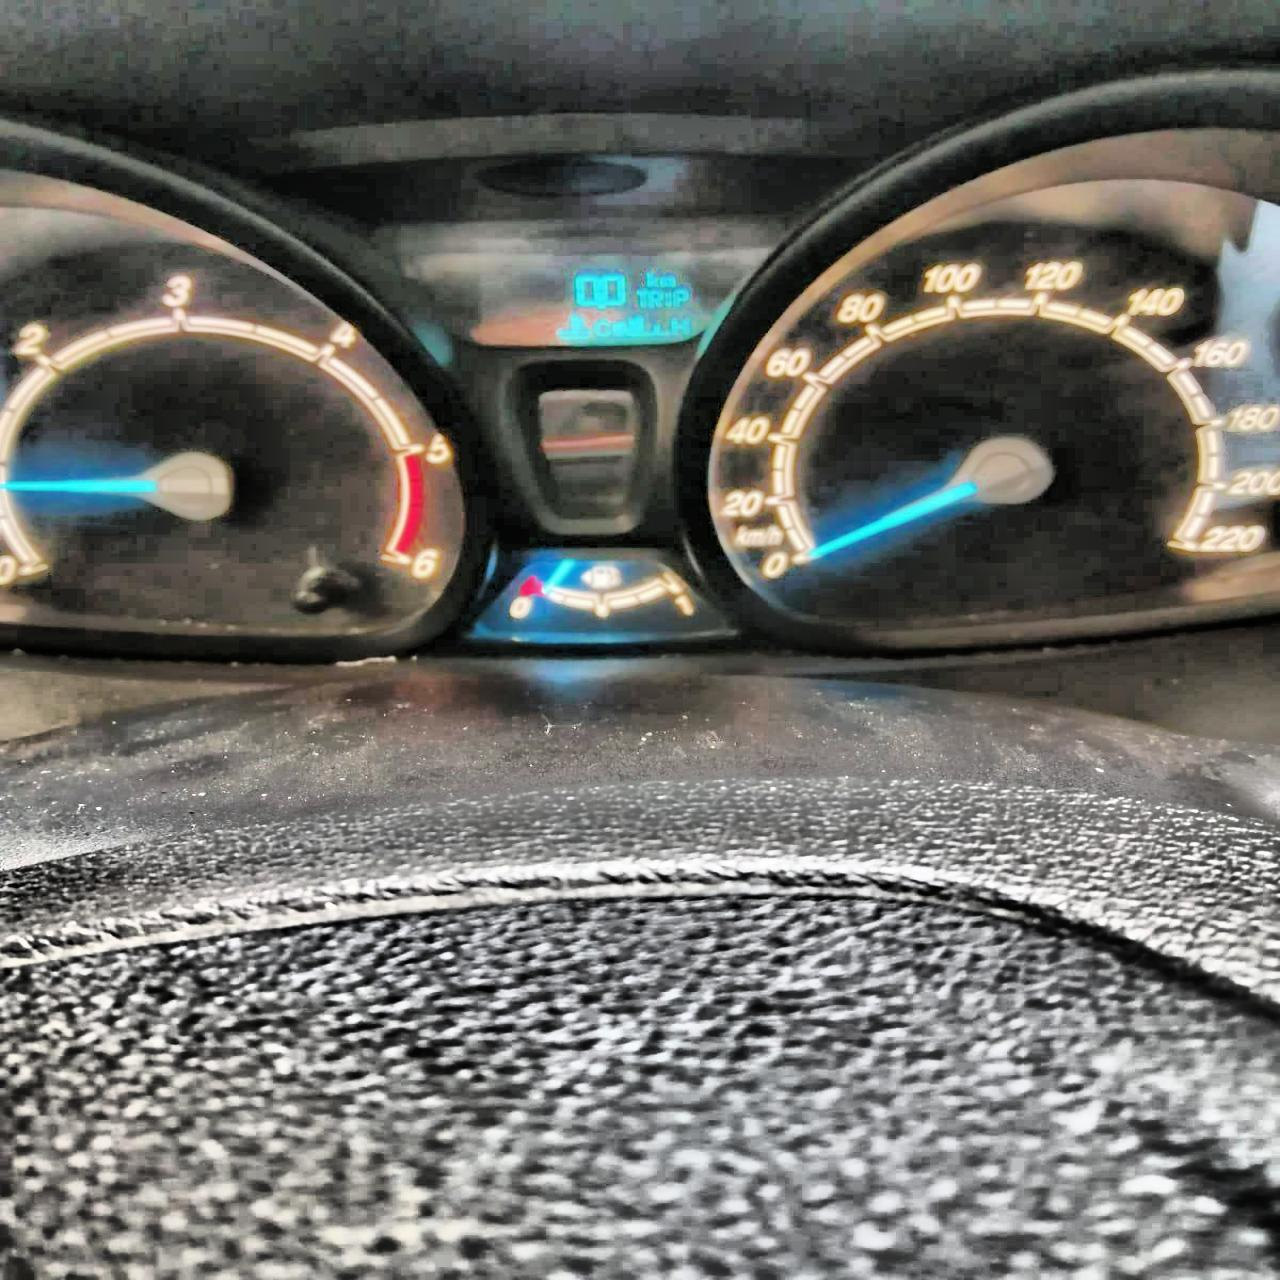-: (597, 302, 606, 308)
0: (572, 272, 600, 306), (601, 271, 626, 305)
X: (592, 318, 611, 338), (669, 316, 689, 335), (647, 288, 663, 309), (672, 288, 689, 307), (644, 268, 658, 287), (658, 274, 676, 288), (634, 288, 647, 308), (663, 290, 672, 308)
odometer: (408, 244, 763, 350)
